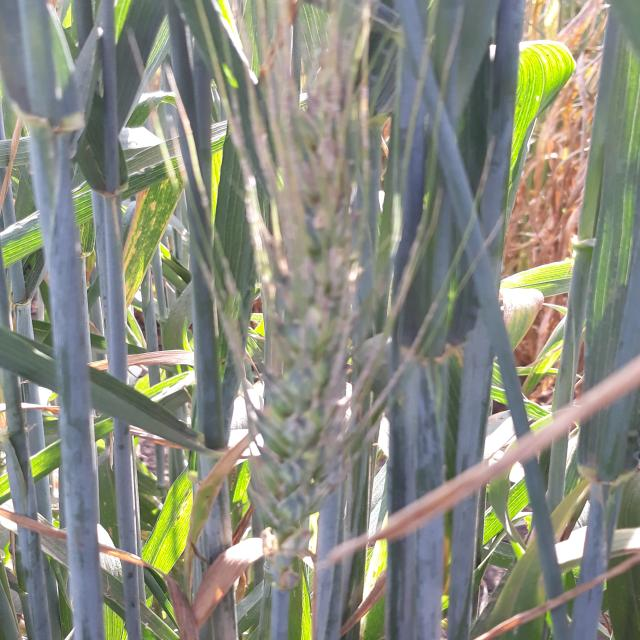powder_mildew: (192, 0, 412, 640), (91, 186, 182, 315), (138, 476, 200, 577)
